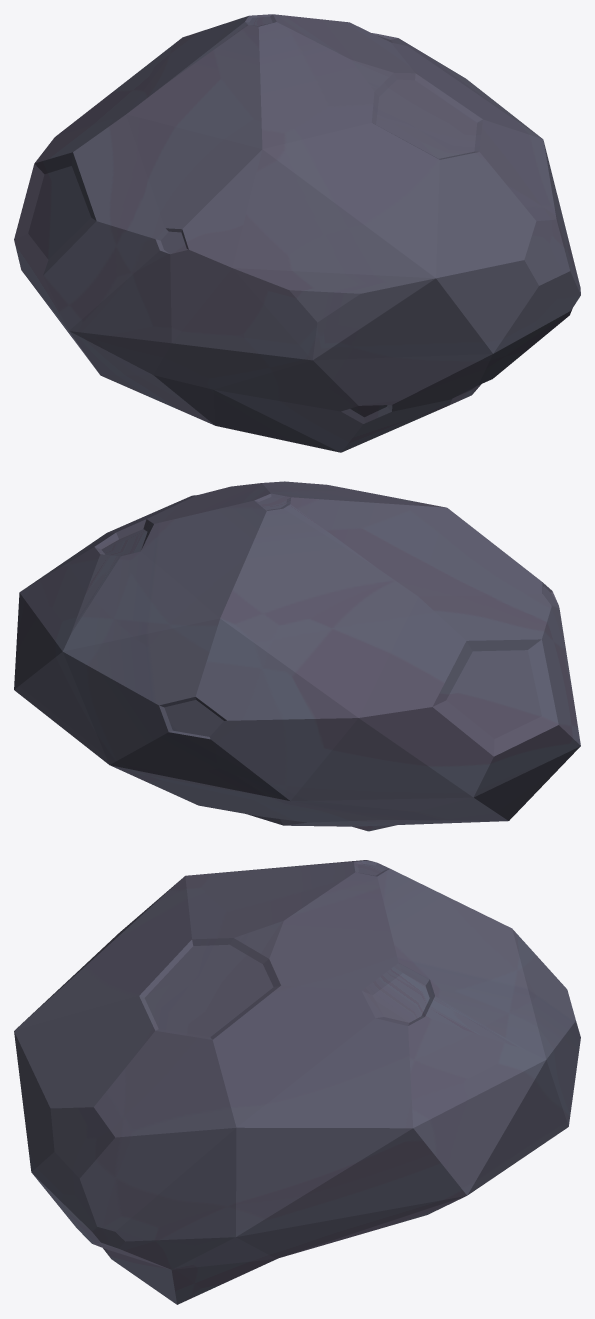
The picture shows the model from 3 angles, top to bottom: view 1: azimuth 30°, elevation 25°; view 2: azimuth 150°, elevation 25°; view 3: azimuth 270°, elevation 25°; orthographic projection. The views are drawn at different scales.
Visible parts, largest first — view 1: метиорит.002; view 2: метиорит.002; view 3: метиорит.002.
Boxes of the visible parts, x1,y1,x2,y2 form: метиорит.002: (14, 14, 580, 452); метиорит.002: (14, 481, 580, 831); метиорит.002: (14, 860, 580, 1304).
Bounding box in the file's own units: 259 × 189 × 241.
